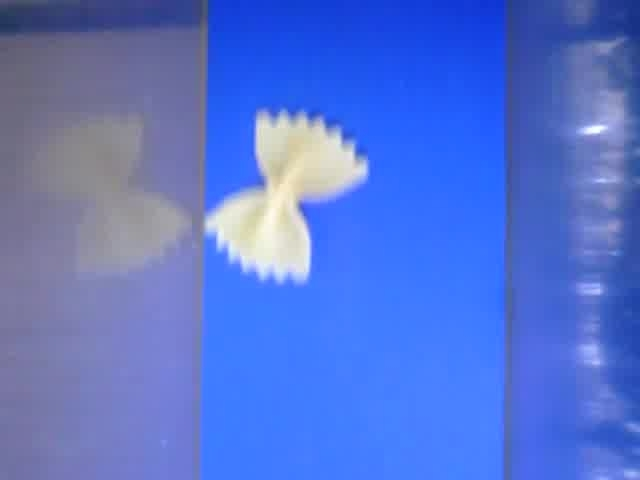farfalle: (204, 108, 370, 284)
